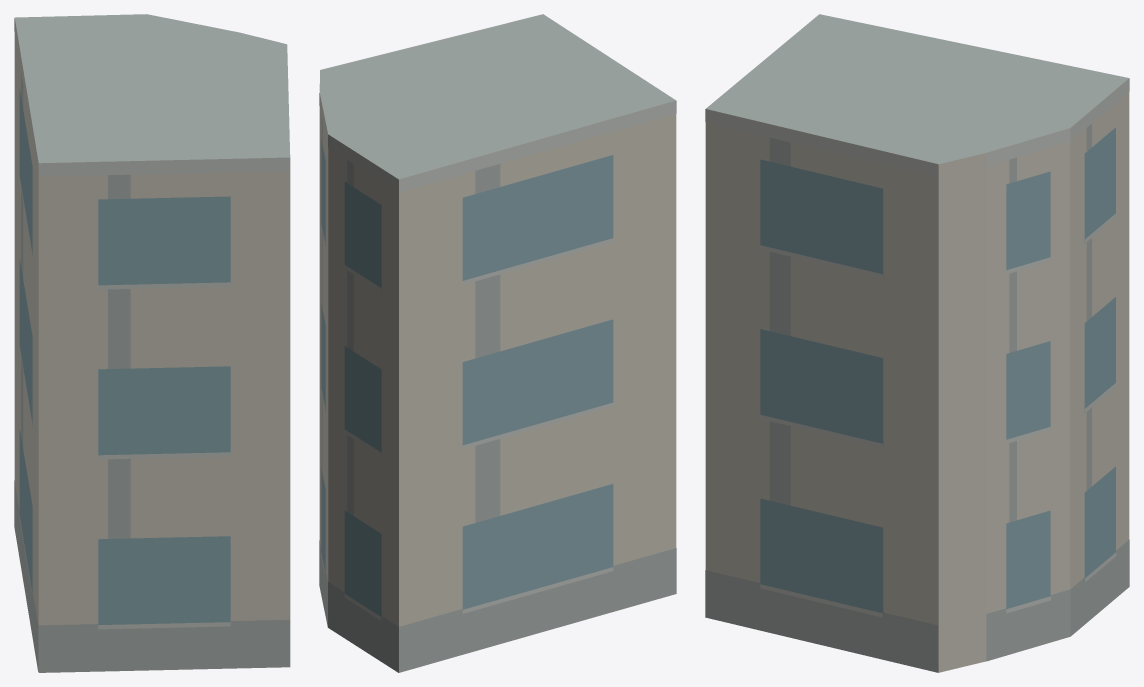
Rendered from survey-upis-32918078.glb.
3 views of the same model, side by side, from view 1: azimuth 30°, elevation 25°; view 2: azimuth 150°, elevation 25°; view 3: azimuth 270°, elevation 25° (orthographic). The views are drawn at different scales.
Parts seen in each view (by area): view 1: survey-upis-32918078.tmp; view 2: survey-upis-32918078.tmp; view 3: survey-upis-32918078.tmp.
Boxes of the visible parts, x1=… form: survey-upis-32918078.tmp: x1=14, y1=14, x2=290, y2=672; survey-upis-32918078.tmp: x1=319, y1=14, x2=676, y2=672; survey-upis-32918078.tmp: x1=705, y1=14, x2=1129, y2=672.
Size of the model in its own units: 5.8 by 9.15 by 6.92.
